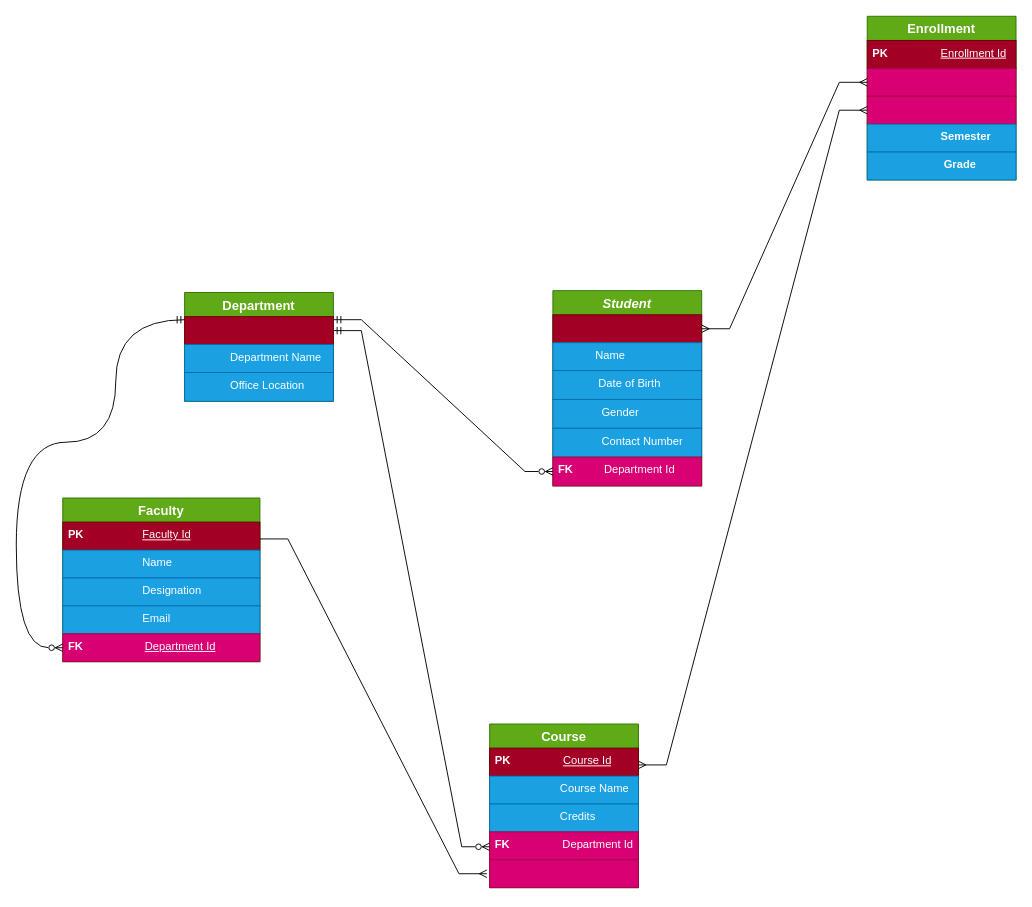
Image size: 1032x907. Some labels were removed from this diagram. The centre of each missing label's shape, as x and y in pixels:
"FK Course Id" belongs at (x=941, y=109).
"FK Faculty Id" belongs at (x=563, y=873).
"FK Student Id" belongs at (x=941, y=81).
"PK Department ID" belongs at (x=258, y=330).
"PK Student ID" belongs at (x=627, y=328).
